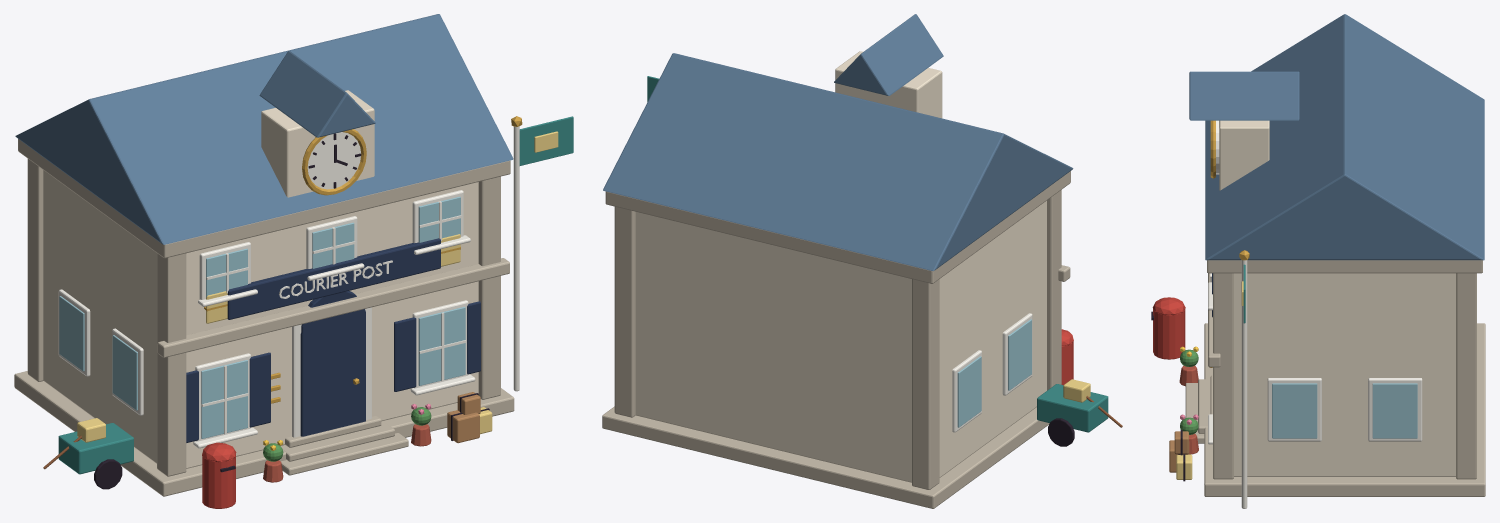
The model's file is post_office.glb.
3 renders of one model, left to right at view 1: azimuth 30°, elevation 25°; view 2: azimuth 150°, elevation 25°; view 3: azimuth 270°, elevation 25°, orthographic. The views are drawn at different scales.
Parts seen in each view (by area): view 1: post_office; view 2: post_office; view 3: post_office.
Boxes of the visible parts, <box> form: post_office: <box>14,14,573,508</box>; post_office: <box>602,14,1122,508</box>; post_office: <box>1151,14,1485,508</box>.
Bounding box in the file's own units: 11.16 × 7.6 × 6.66.
